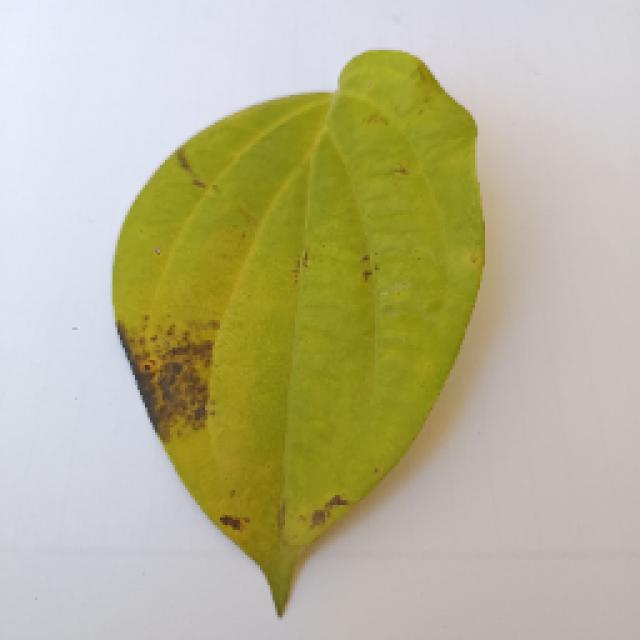slow-decline: (87, 55, 495, 615)
